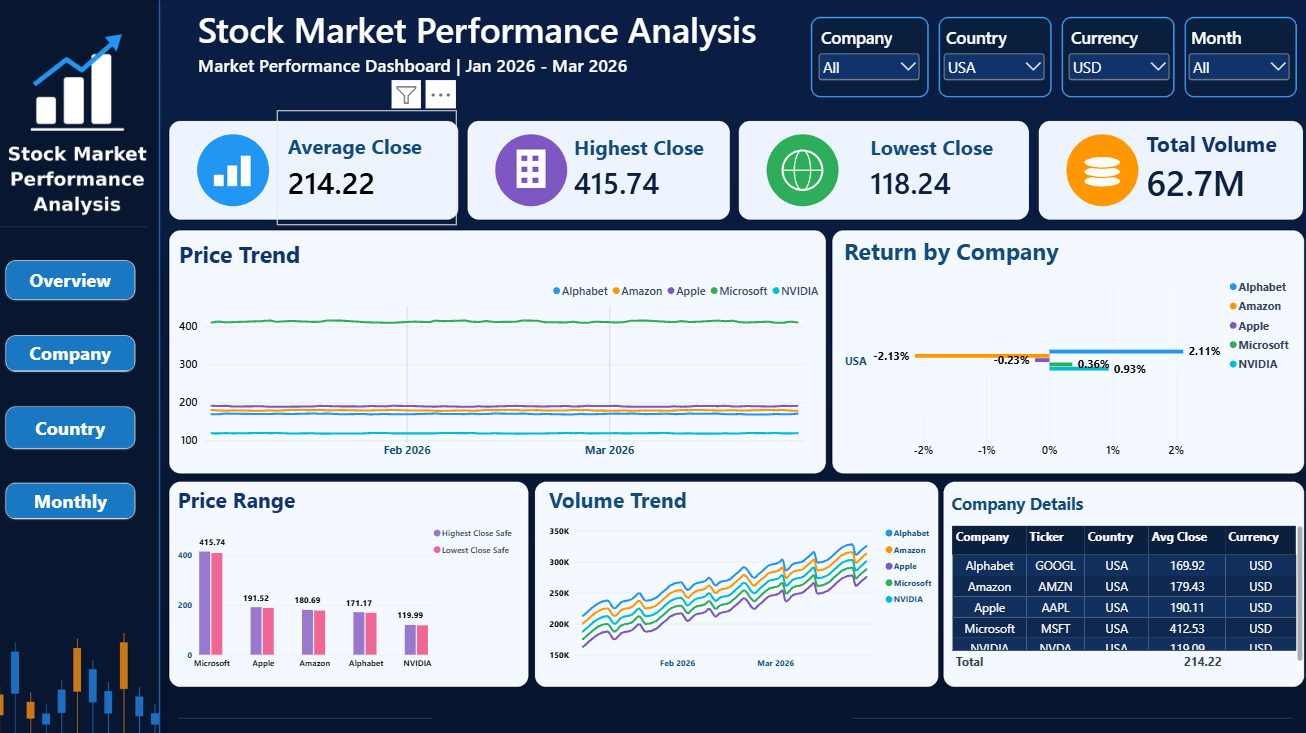

This screenshot's page, from the dashboard's own definition file:
{"tool":"powerbi","page":{"name":"Company","canvas":[1920,1080],"ordinal":1},"visuals":[{"type":"slicer","fields":{"Values":["Stock_Clean.Company"]},"box":[1198,39.8,155.6,105],"z":0},{"type":"slicer","fields":{"Values":["Stock_Clean.Country"]},"box":[1379,39.8,155.6,105],"z":1000},{"type":"slicer","fields":{"Values":["Stock_Clean.Currency"]},"box":[1559.9,39.8,155.6,105],"z":2000},{"type":"slicer","fields":{"Values":["Stock_Clean.Month "]},"box":[1733.7,39.8,155.6,105],"z":3000},{"type":"cardVisual","fields":{"Data":["Stock_Clean.Avg Close Safe"]},"box":[418,161.1,260.6,166.5],"z":4000},{"type":"cardVisual","fields":{"Data":["Stock_Clean.Highest Close Safe"]},"box":[832.4,161.1,316.7,166.5],"z":5000},{"type":"cardVisual","fields":{"Data":["Stock_Clean.Lowest Close Safe"]},"box":[1261.3,161.1,273.3,166.5],"z":6000},{"type":"cardVisual","fields":{"Data":["Stock_Clean.Total Volume"]},"box":[1661.3,161.1,258.8,166.5],"z":7000},{"type":"clusteredBarChart","title":"Return by Company","fields":{"Category":["Stock_Clean.Country"],"Series":["Stock_Clean.Company"],"Y":["Stock_Clean.Avg Daily Return"]},"box":[1223.3,327.5,685.9,358.3],"z":8000},{"type":"lineChart","title":"Price Trend","fields":{"Category":["Stock_Clean.Date"],"Series":["Stock_Clean.Company"],"Y":["Avg(Stock_Clean.Close)"]},"box":[260.3,331.6,963.4,354.7],"z":9000},{"type":"clusteredColumnChart","title":"Price Range","fields":{"Category":["Stock_Clean.Company"],"Y":["Stock_Clean.Highest Close Safe","Stock_Clean.Lowest Close Safe"]},"box":[258.8,689.5,524.8,300.4],"z":10000},{"type":"tableEx","title":"Company Details","fields":{"Values":["Stock_Clean.Company","Stock_Clean.Ticker","Stock_Clean.Country","Stock_Clean.Avg Close Safe","Stock_Clean.Currency"]},"box":[1379,700.3,541.1,289.5],"z":11000},{"type":"lineChart","title":"Volume Trend","fields":{"Category":["Stock_Clean.Date"],"Series":["Stock_Clean.Company"],"Y":["Avg(Stock_Clean.Volume)"]},"box":[796.3,689.5,595.4,300.4],"z":12000},{"type":"textbox","title":"Stock Market Performance Analysis","box":[304,9,850.5,164.7],"z":13000},{"type":"image","box":[0,18.1,258.8,345.6],"z":14000},{"type":"actionButton","box":[25.3,378.2,188.2,57.9],"z":18001},{"type":"actionButton","box":[25.3,486.8,188.2,52.5],"z":18002},{"type":"actionButton","box":[25.3,589.9,188.2,61.5],"z":18003},{"type":"actionButton","box":[25.3,700.3,188.2,52.5],"z":18004}]}

Visuals, with their boxes in screenshot pixels (x1, y1, x2, y2), scaled from the page's 1920x1080 canvas onto the 1306x733 screenshot:
slicer - Stock_Clean.Company: <region>815, 27, 921, 98</region>
slicer - Stock_Clean.Country: <region>938, 27, 1044, 98</region>
slicer - Stock_Clean.Currency: <region>1061, 27, 1167, 98</region>
slicer - Stock_Clean.Month : <region>1179, 27, 1285, 98</region>
cardVisual - Stock_Clean.Avg Close Safe: <region>284, 109, 462, 222</region>
cardVisual - Stock_Clean.Highest Close Safe: <region>566, 109, 782, 222</region>
cardVisual - Stock_Clean.Lowest Close Safe: <region>858, 109, 1044, 222</region>
cardVisual - Stock_Clean.Total Volume: <region>1130, 109, 1305, 222</region>
"Return by Company" clusteredBarChart: <region>832, 222, 1299, 465</region>
"Price Trend" lineChart: <region>177, 225, 832, 466</region>
"Price Range" clusteredColumnChart: <region>176, 468, 533, 672</region>
"Company Details" tableEx: <region>938, 475, 1305, 672</region>
"Volume Trend" lineChart: <region>542, 468, 947, 672</region>
"Stock Market Performance Analysis" textbox: <region>207, 6, 785, 118</region>
image: <region>0, 12, 176, 247</region>
actionButton: <region>17, 257, 145, 296</region>
actionButton: <region>17, 330, 145, 366</region>
actionButton: <region>17, 400, 145, 442</region>
actionButton: <region>17, 475, 145, 511</region>
